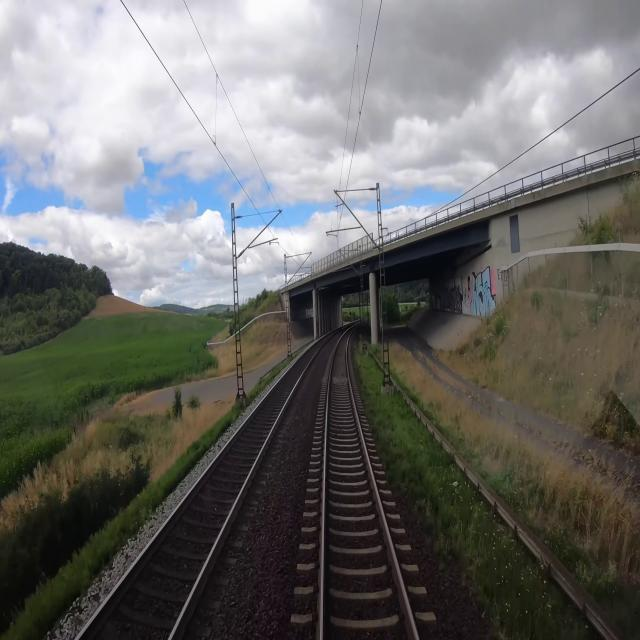Plant: (352, 355, 409, 494)
